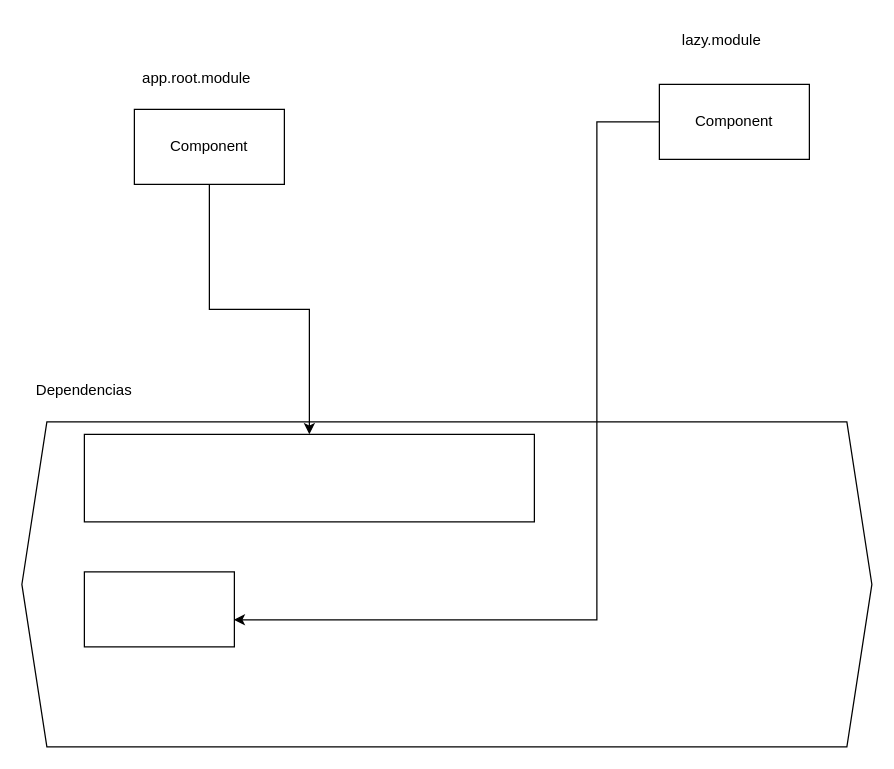
The diagram is 894 pixels wide and 769 high, and some of its shapes have lost their labels. Each missing label, with the centre of its shape:
LazyService providedIn: any page:0: pixel 158 609
ProductServiceImplement page: 2: pixel 308 477
